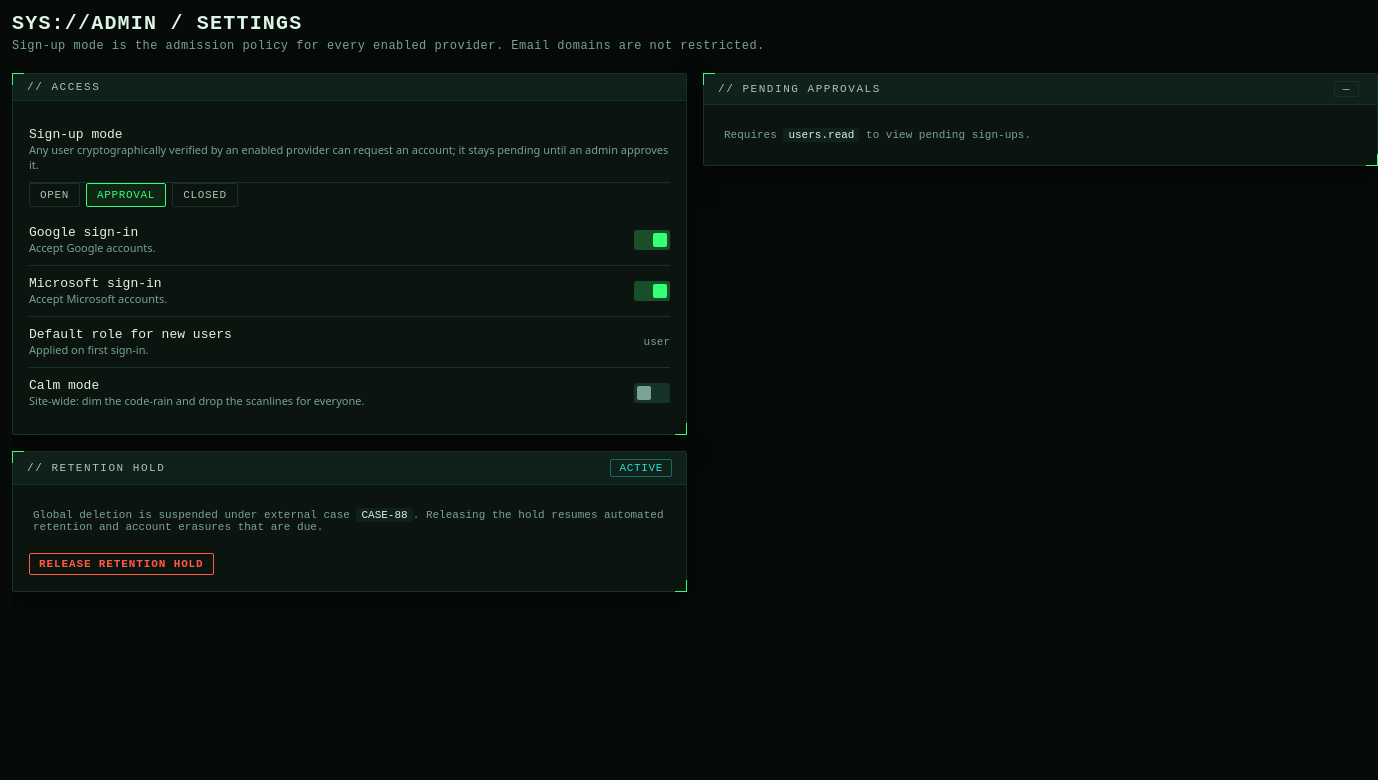
Test: SettingsPage permission-aware controls › requires confirmation before releasing an active retention hold
Click the button "Release retention hold": click(121, 564) [29,553,214,575]
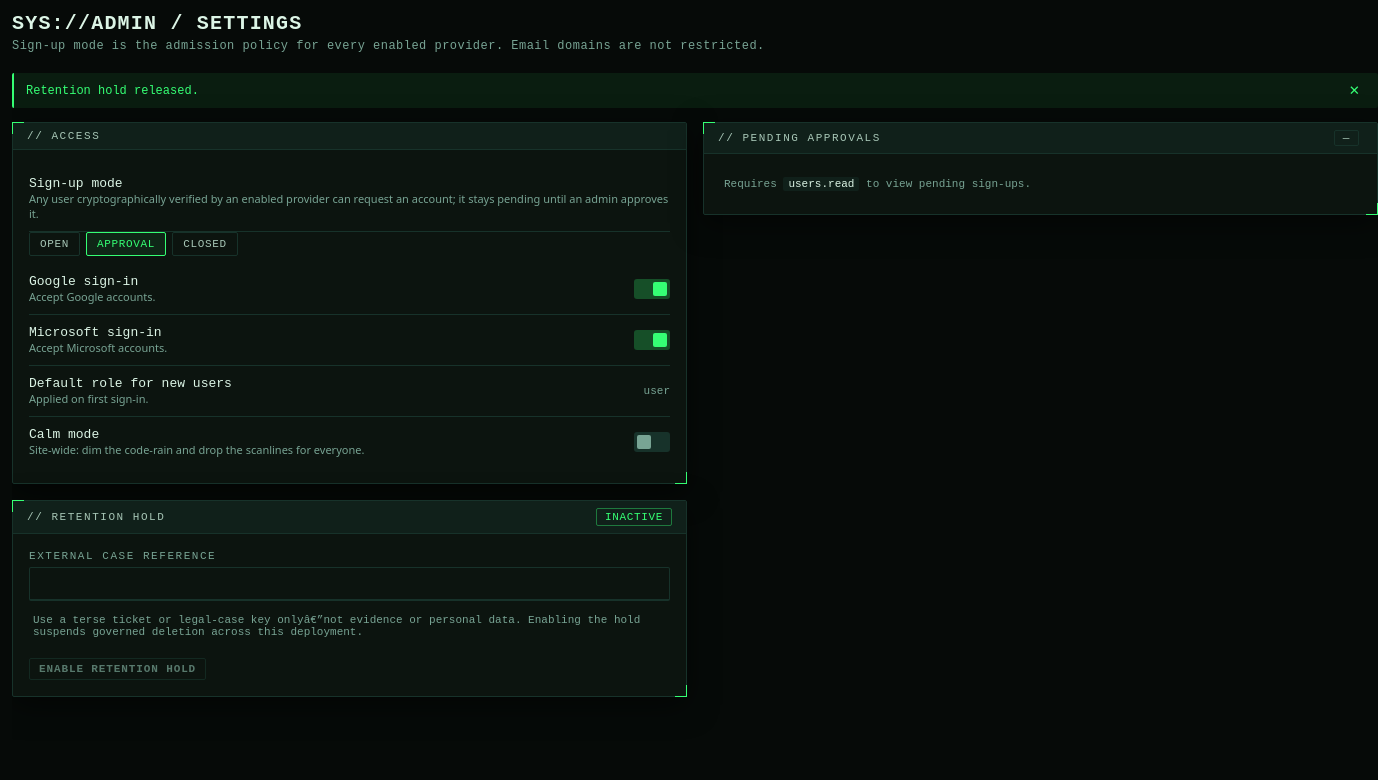
expect the text "Retention hold released." is shown: met, box [26,84,199,98]
